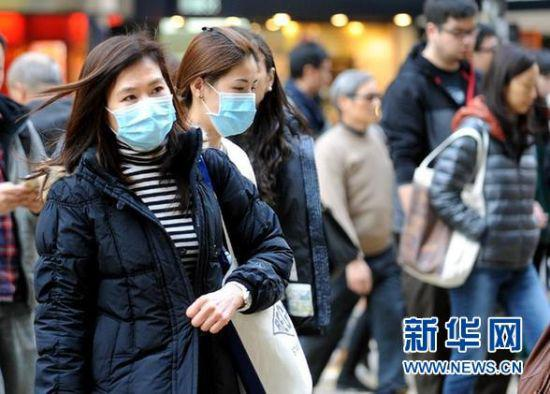NONE: (438, 13, 477, 61), (509, 68, 539, 112), (353, 85, 384, 125)
OK: (110, 77, 175, 153), (212, 77, 260, 137)
